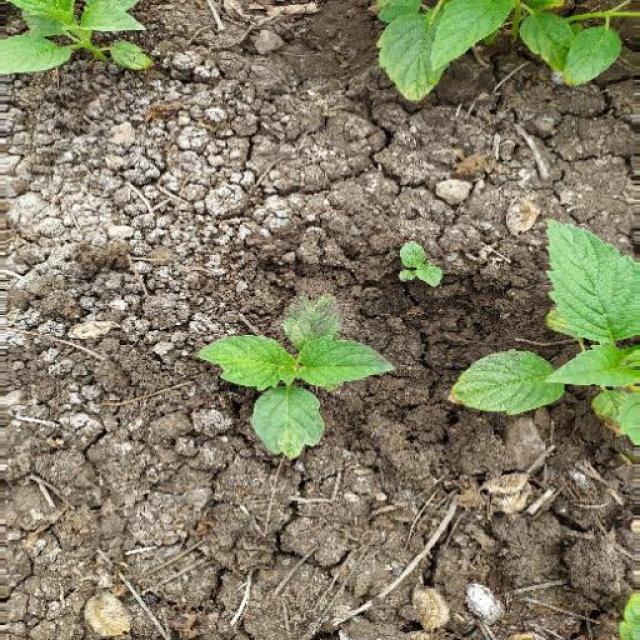crop: (444, 200, 640, 508), (186, 279, 408, 471), (358, 2, 626, 98), (1, 1, 170, 80)
